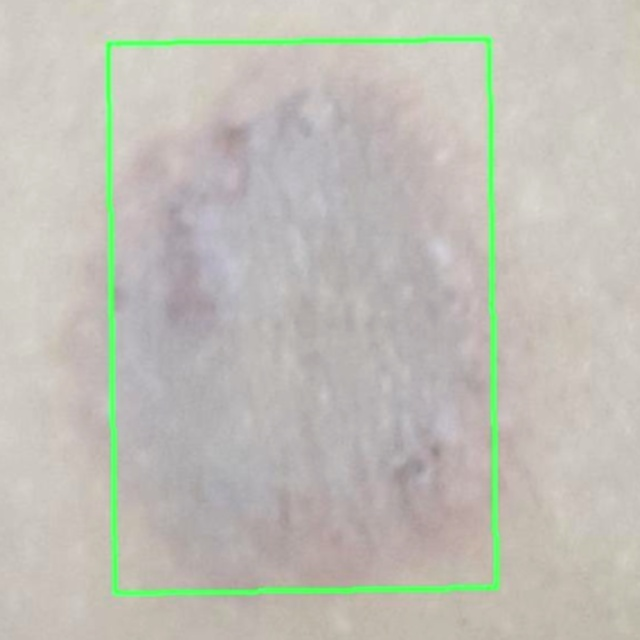Eczema: (109, 39, 496, 593)
